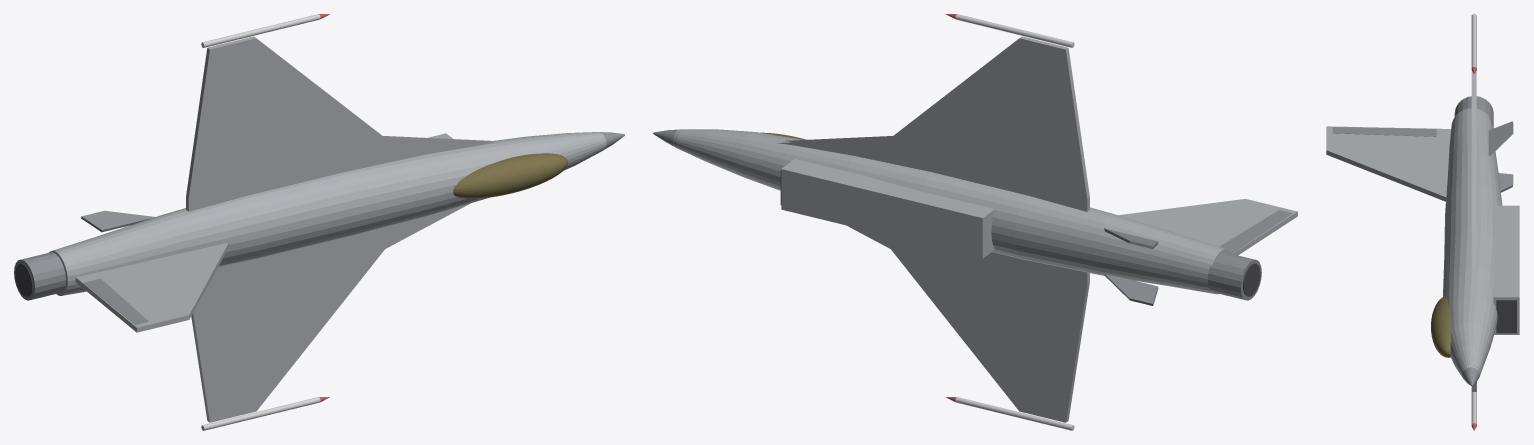
The model's file is f16_body_grey.glb.
3 renders of one model, left to right at view 1: azimuth 30°, elevation 25°; view 2: azimuth 150°, elevation 25°; view 3: azimuth 270°, elevation 25°, orthographic. The views are drawn at different scales.
Visible parts, largest first — view 1: part0, part5, part6, part11, part4, part15, part13, part12, part7, part9; view 2: part5, part0, part6, part2, part11, part15, part14, part12, part7, part9; view 3: part0, part11, part2, part5, part4, part12, part3, part13, part15, part7, part1, part14 (+1 smaller).
Part boxes in pixels (box(x1,y1,x2,y2)): part0: box(49, 132, 606, 295); part5: box(186, 36, 495, 211); part6: box(191, 203, 470, 422); part11: box(75, 242, 228, 332); part4: box(453, 153, 568, 198); part15: box(14, 252, 65, 300); part13: box(81, 210, 154, 232); part12: box(83, 278, 148, 324); part7: box(201, 14, 320, 47); part9: box(201, 397, 320, 430); part5: box(778, 36, 1089, 211); part0: box(673, 129, 1230, 294); part6: box(847, 225, 1089, 422); part2: box(781, 159, 994, 258); part11: box(1118, 199, 1297, 255); part15: box(1208, 252, 1261, 300); part14: box(1104, 274, 1158, 305); part12: box(1219, 210, 1292, 253); part7: box(955, 14, 1074, 47); part9: box(955, 397, 1074, 430); part0: box(1443, 108, 1502, 378); part11: box(1326, 126, 1451, 201); part2: box(1493, 205, 1519, 334); part5: box(1471, 70, 1476, 300); part4: box(1431, 296, 1450, 357); part12: box(1332, 127, 1436, 136); part3: box(1496, 300, 1516, 333); part13: box(1488, 121, 1513, 155); part15: box(1454, 96, 1493, 128); part7: box(1471, 14, 1476, 68); part1: box(1462, 364, 1480, 386); part14: box(1498, 173, 1513, 192).
Size of the model in its own units: 15.47 by 9.57 by 4.64.
